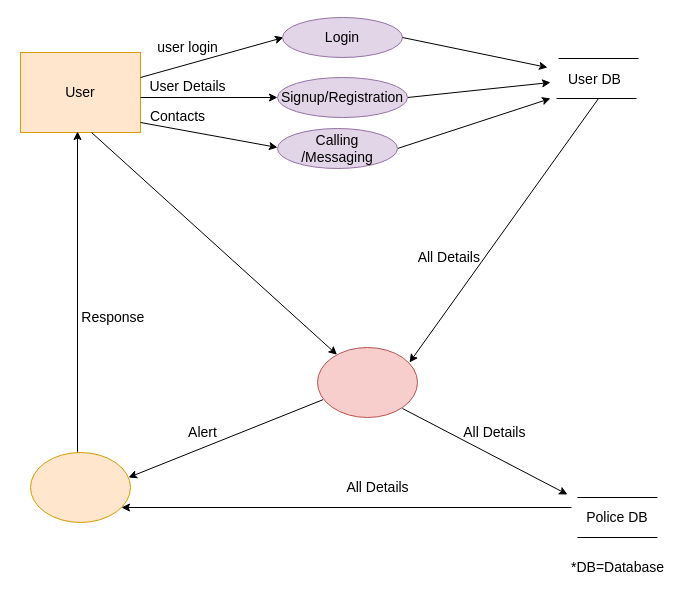
Some shapes in this 694 by 600 pixel diagram are drawn without their labels. Each missing label, with the centre of its shape:
"Police" goes at point 80,487.
"SOS" goes at point 367,382.
